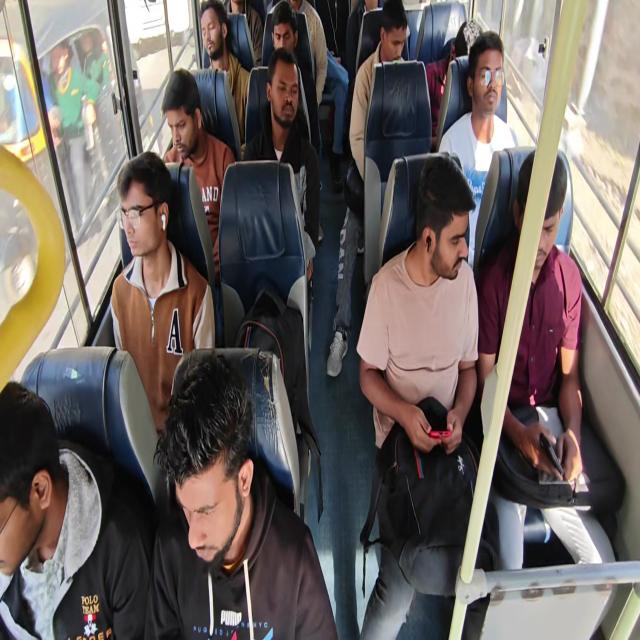person: (476, 148, 622, 637), (356, 152, 491, 638), (144, 352, 338, 638), (0, 379, 152, 639), (326, 0, 409, 377), (110, 150, 215, 438), (438, 30, 518, 268), (242, 47, 321, 282), (161, 68, 236, 282), (288, 0, 349, 192), (41, 40, 99, 232), (349, 0, 409, 182), (268, 1, 321, 155), (199, 0, 251, 144), (426, 19, 482, 142), (228, 0, 264, 67)
